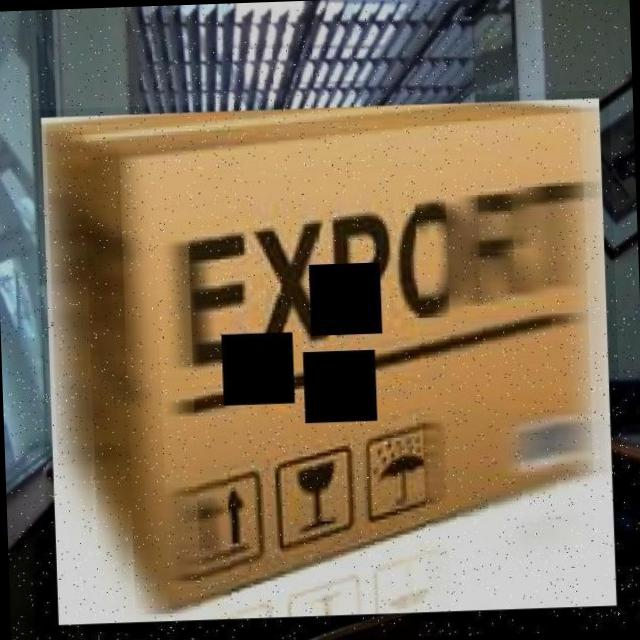box: (31, 89, 626, 634)
